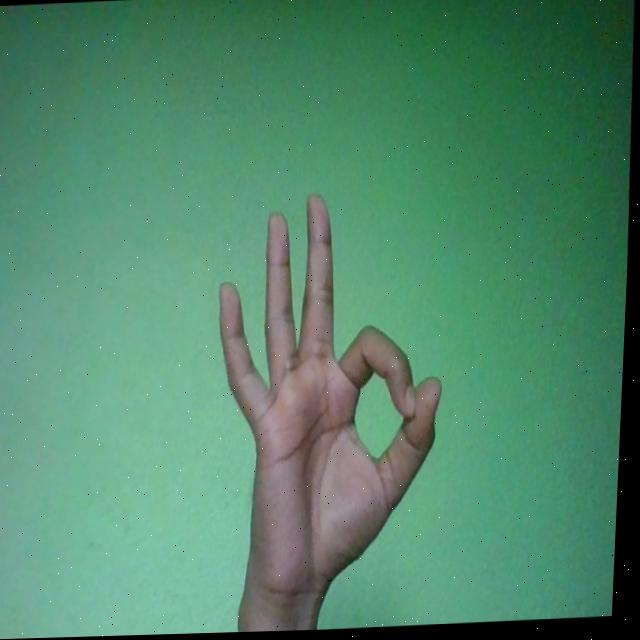Ok: (209, 188, 456, 610)
